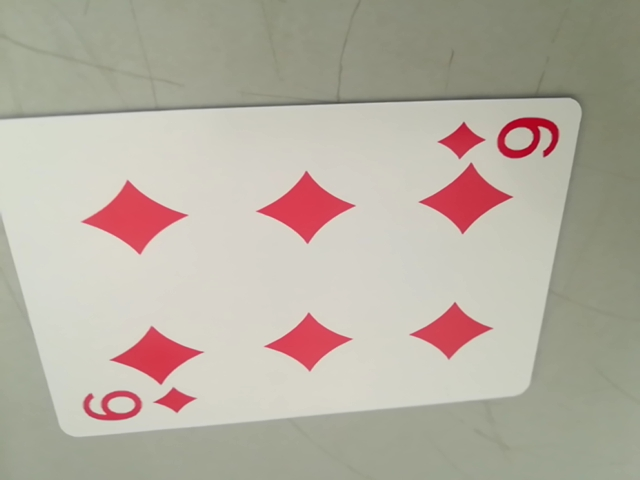fk 6: (437, 111, 559, 166), (74, 381, 202, 432)
